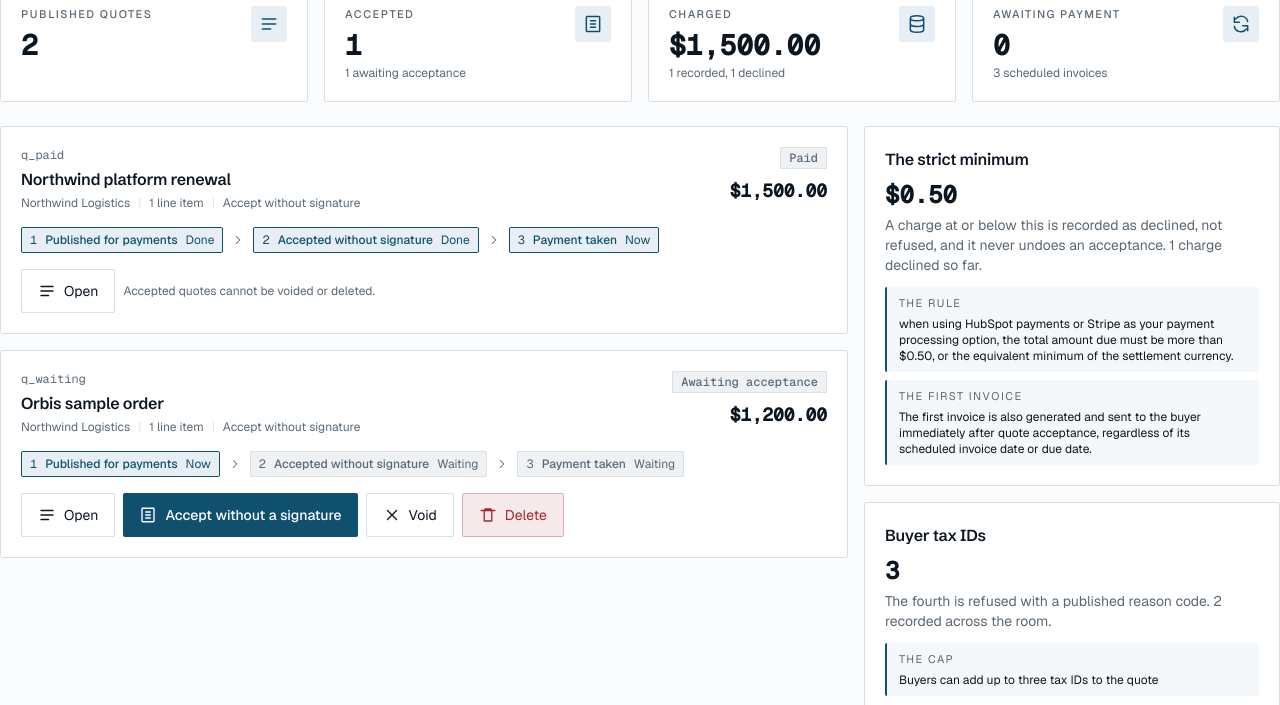
the page › states the minimum beside the charge, so a decline is never a surprise
Expected: the heading "Northwind platform renewal" is shown, x1=21 y1=169 x2=231 y2=189
Click the button "Open" below "Northwind platform renewal". click: [68, 291]
box: x1=21 y1=269 x2=115 y2=313
(page scrolled)
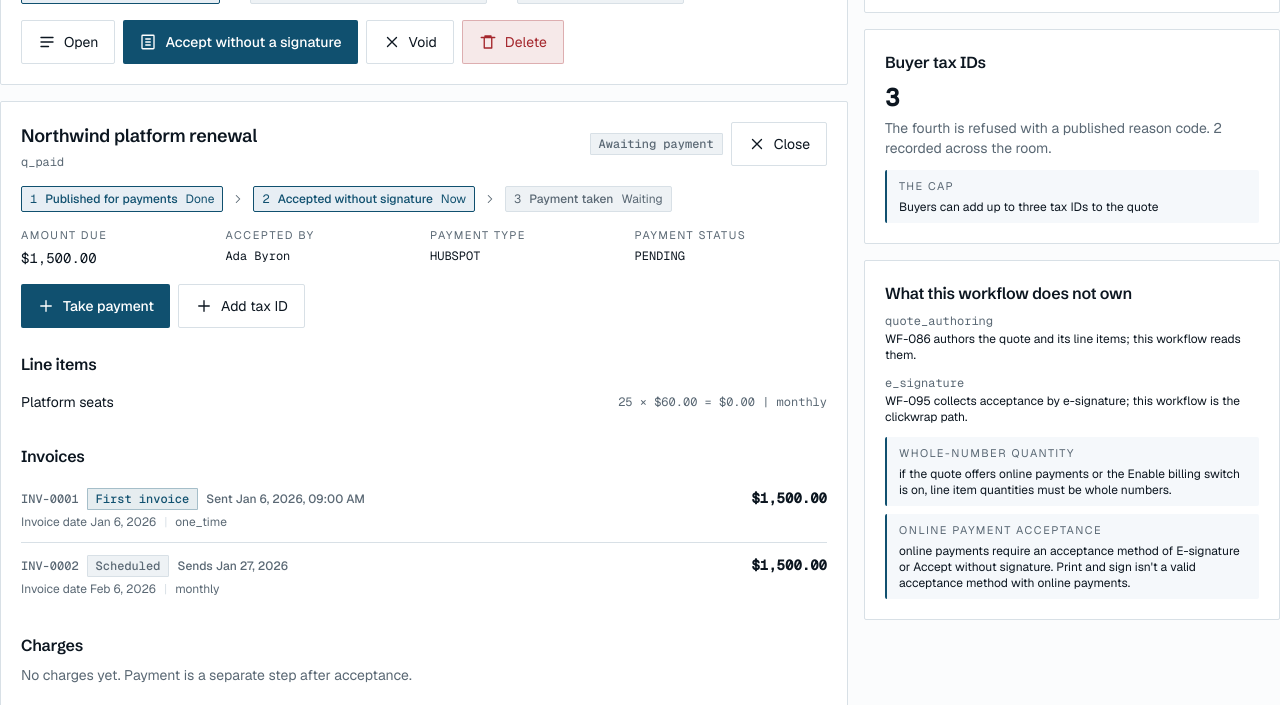
Click the button "Take payment". click: [96, 306]
box: x1=21 y1=284 x2=170 y2=328
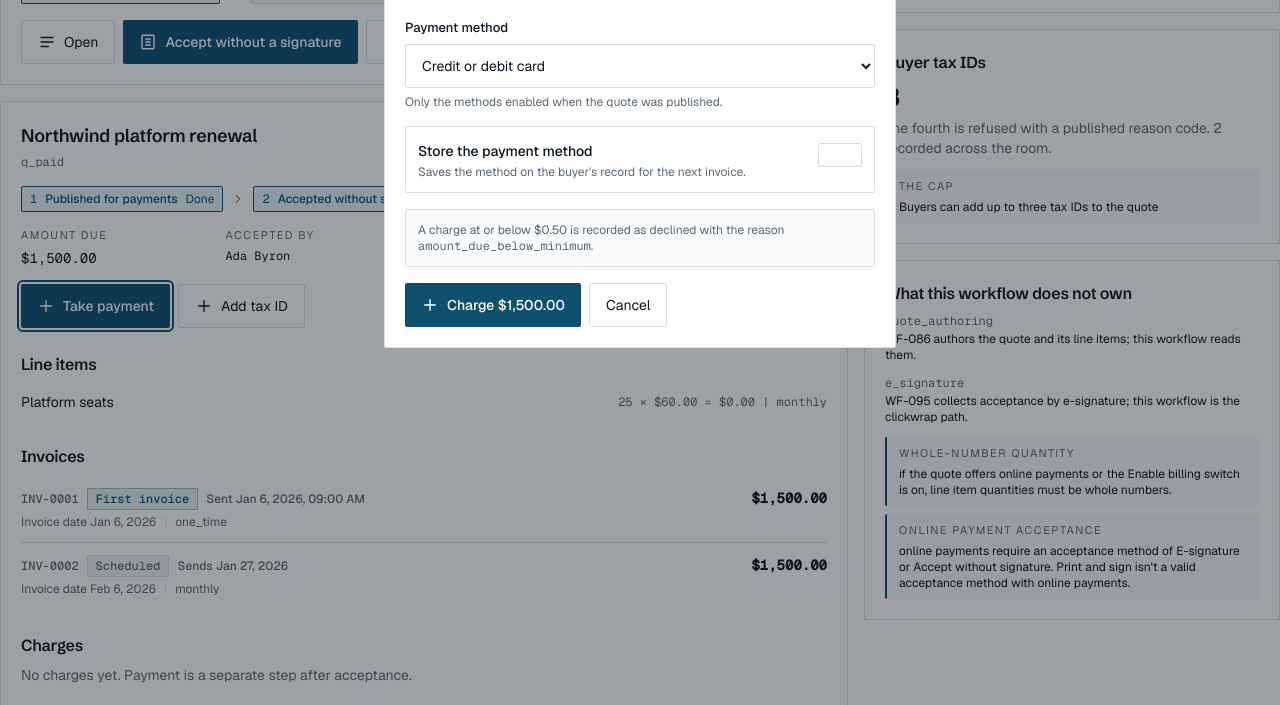
Expected: the text "is recorded as" is shown, x1=567 y1=222 x2=784 y2=238
Expected: the text "amount_due_below_minimum" is shown, x1=418 y1=238 x2=591 y2=254
